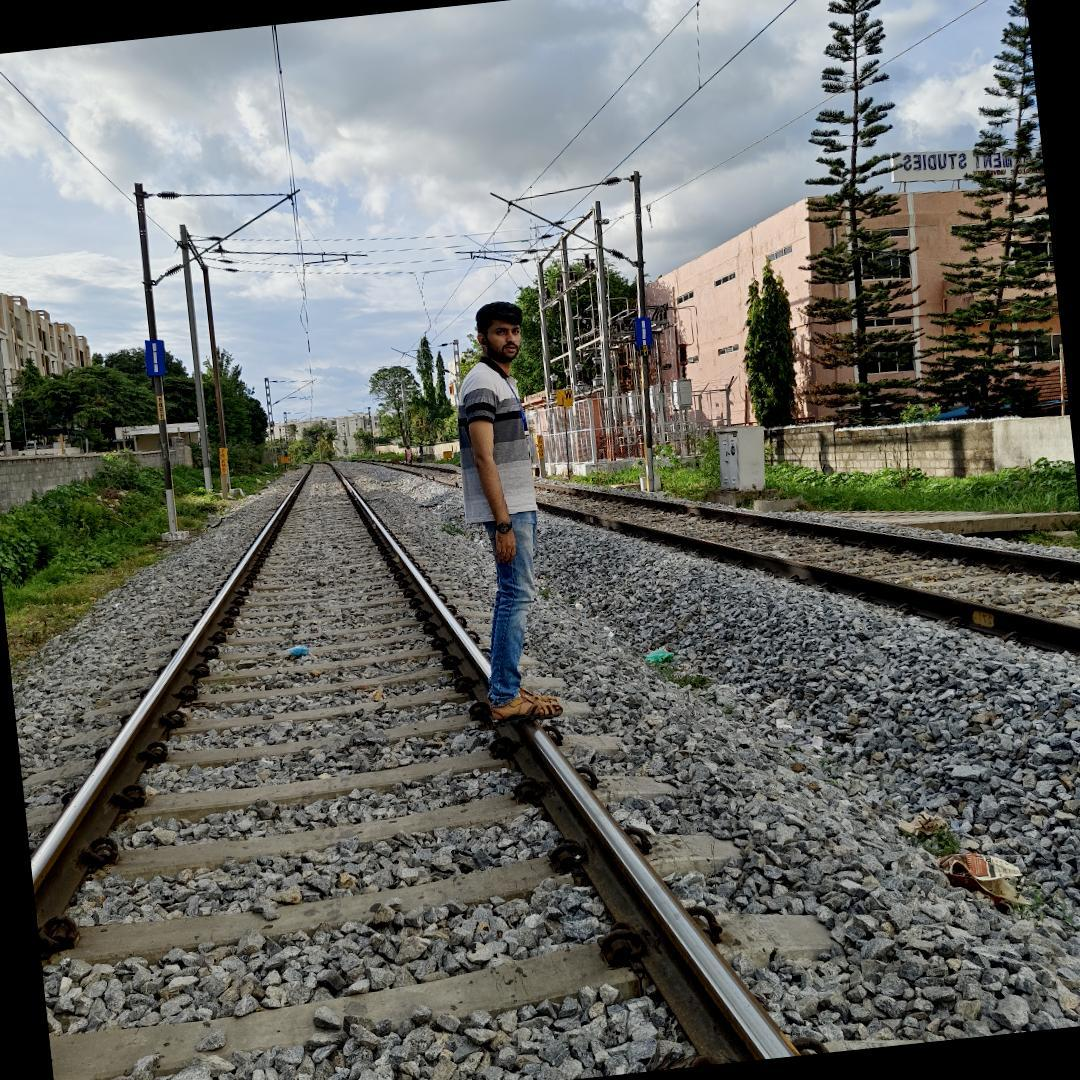standing: (433, 292, 566, 742)
